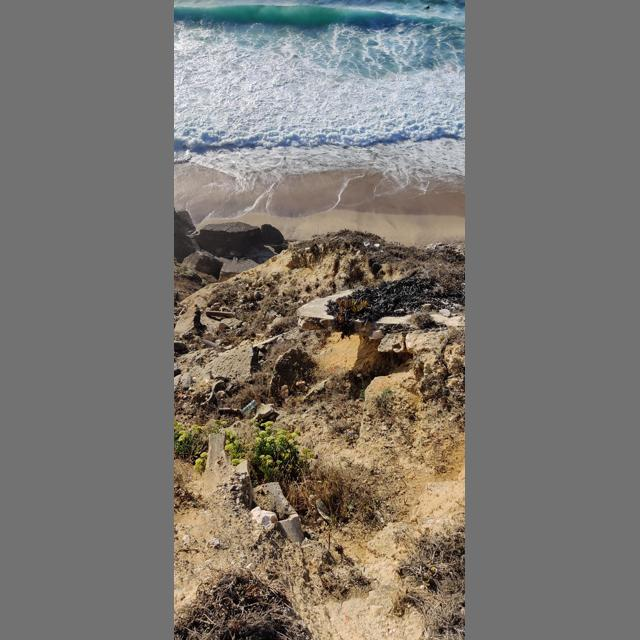litter: (316, 498, 331, 520), (241, 400, 256, 415), (219, 407, 239, 414), (364, 241, 371, 247), (374, 244, 382, 248)
